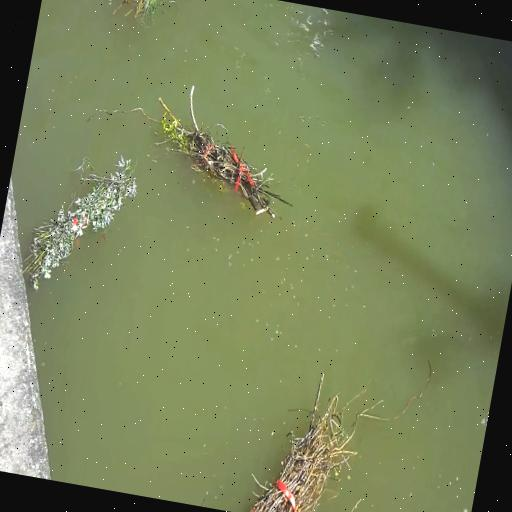twig: (250, 372, 389, 512), (159, 85, 291, 217), (23, 155, 137, 289), (113, 0, 164, 24)
